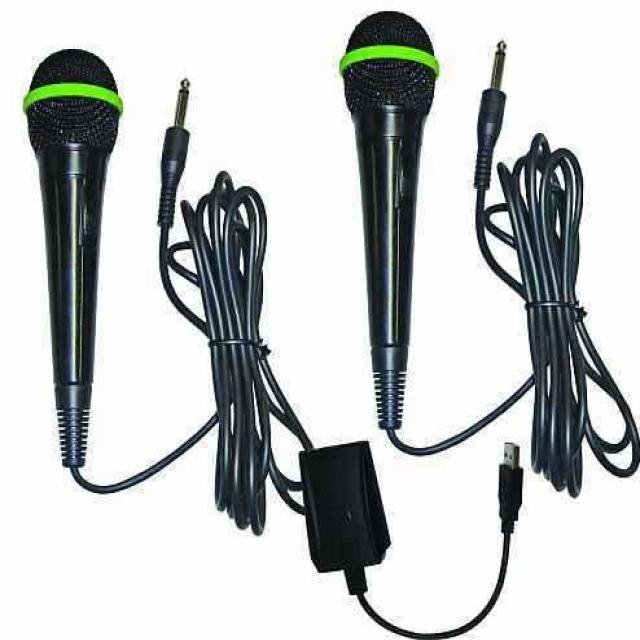microphone: (343, 12, 442, 414), (20, 53, 119, 454)
